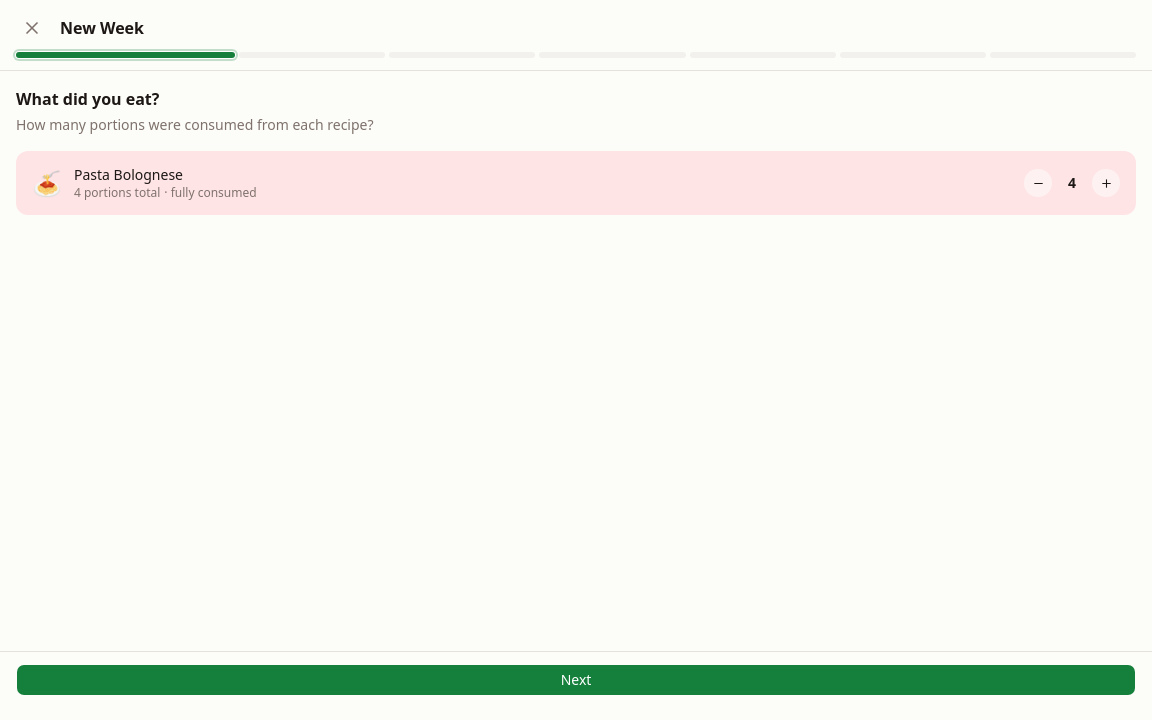
Test: StartNewWeekWizard › step 3 shows global lunch/dinner steppers
This screenshot has width=1152, height=720.
Step 1. Click the button with test id "wizard-next" → (576, 680), box [16, 664, 1136, 696]
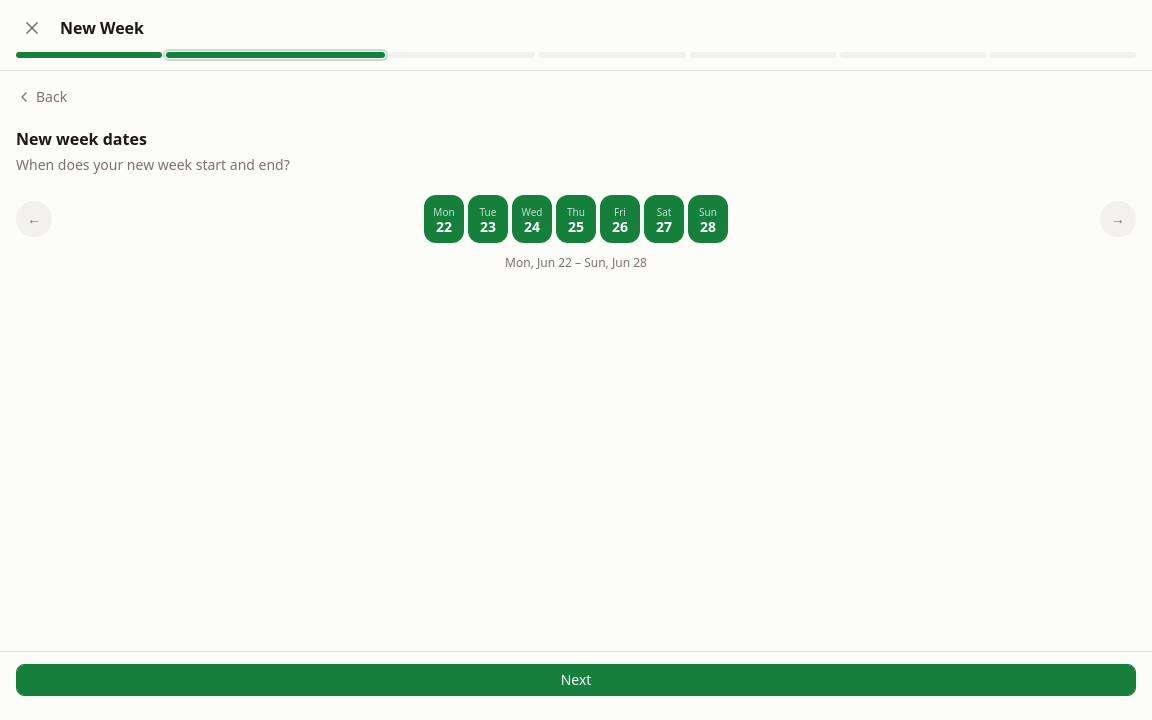
Step 2. Click the button with test id "wizard-next" → (576, 680), box [16, 664, 1136, 696]
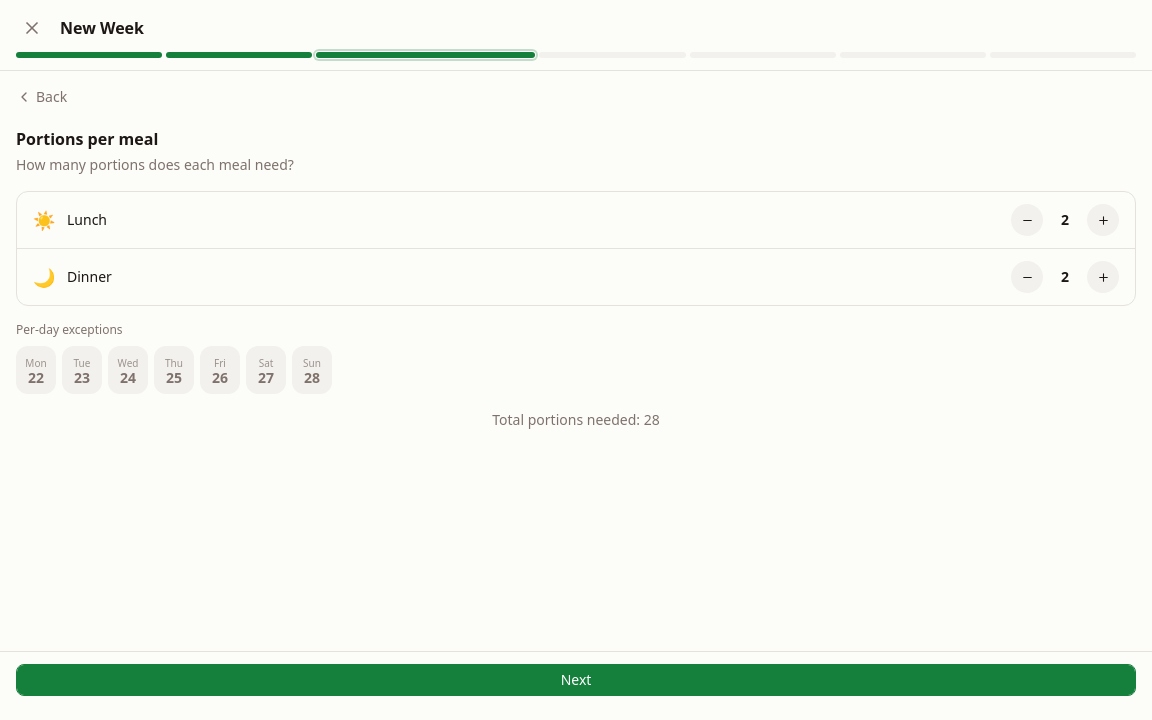
Now the heading "Portions per meal" is shown, box [16, 128, 158, 150]
Now the text "Lunch" is shown, box [67, 210, 107, 229]
Now the text "Dinner" is shown, box [67, 267, 112, 286]
